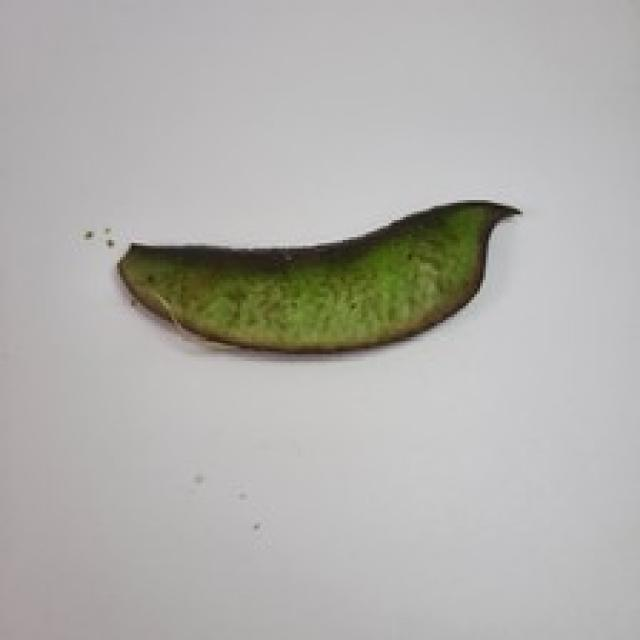Bean: (114, 195, 520, 352)
